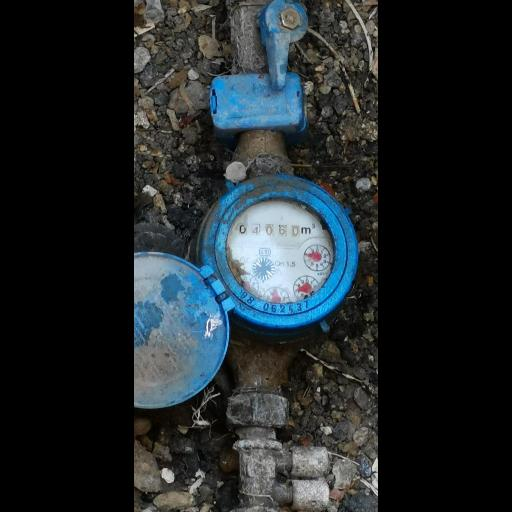0: (239, 223, 248, 235), (266, 224, 274, 236), (292, 225, 300, 237)
4: (252, 224, 261, 236)
6: (278, 225, 287, 237)
border_water_meter_number: (238, 222, 301, 239)
